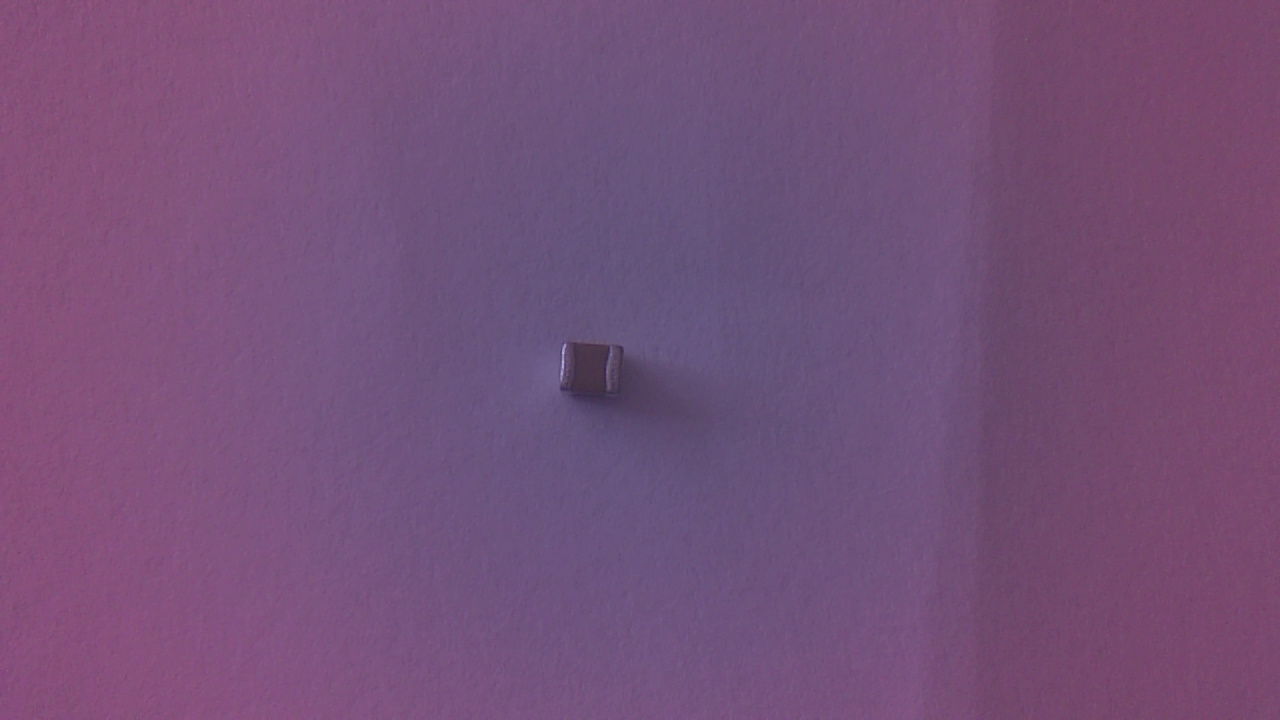Condensator: (560, 340, 636, 411)
